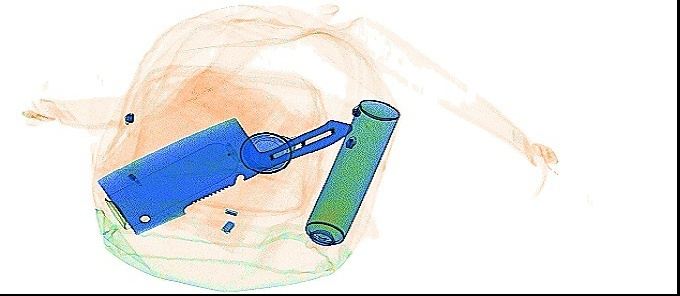knife: (92, 115, 353, 237)
pressure: (303, 98, 401, 251)
